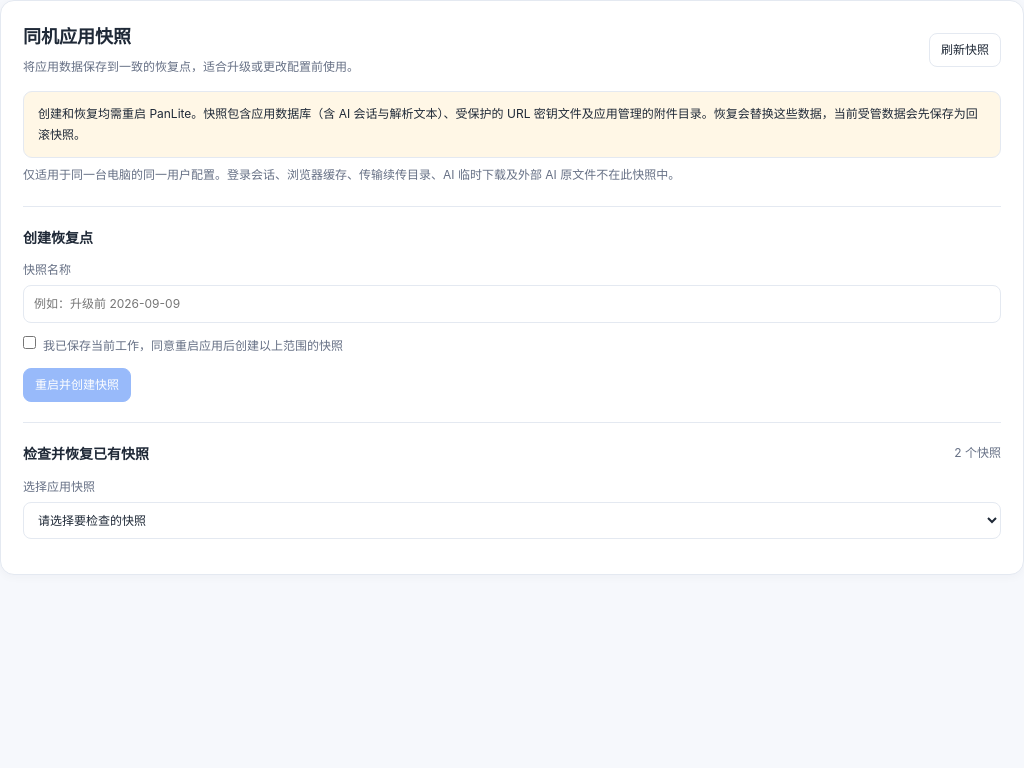
Test case: requires explicit restart confirmation before creating a snapshot
Type "本次升级前" into the field named "应用快照名称".
click(512, 304); type("本次升级前")  # box x1=23 y1=285 x2=1001 y2=323
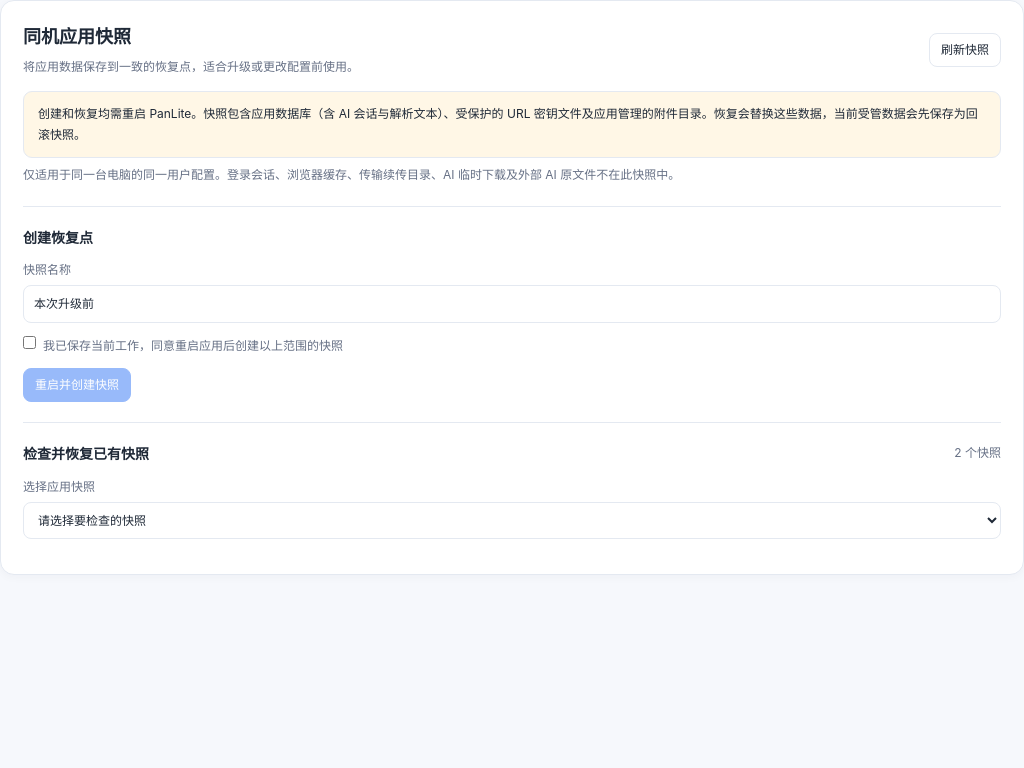
Submit the form, box x1=23 y1=206 x2=1001 y2=402
Expected: the text "创建和恢复均需重启 PanLite" is shown, x1=38 y1=106 x2=978 y2=142
Click the checkbox named "确认重启创建应用快照".
click(30, 342)  # box x1=23 y1=336 x2=36 y2=349
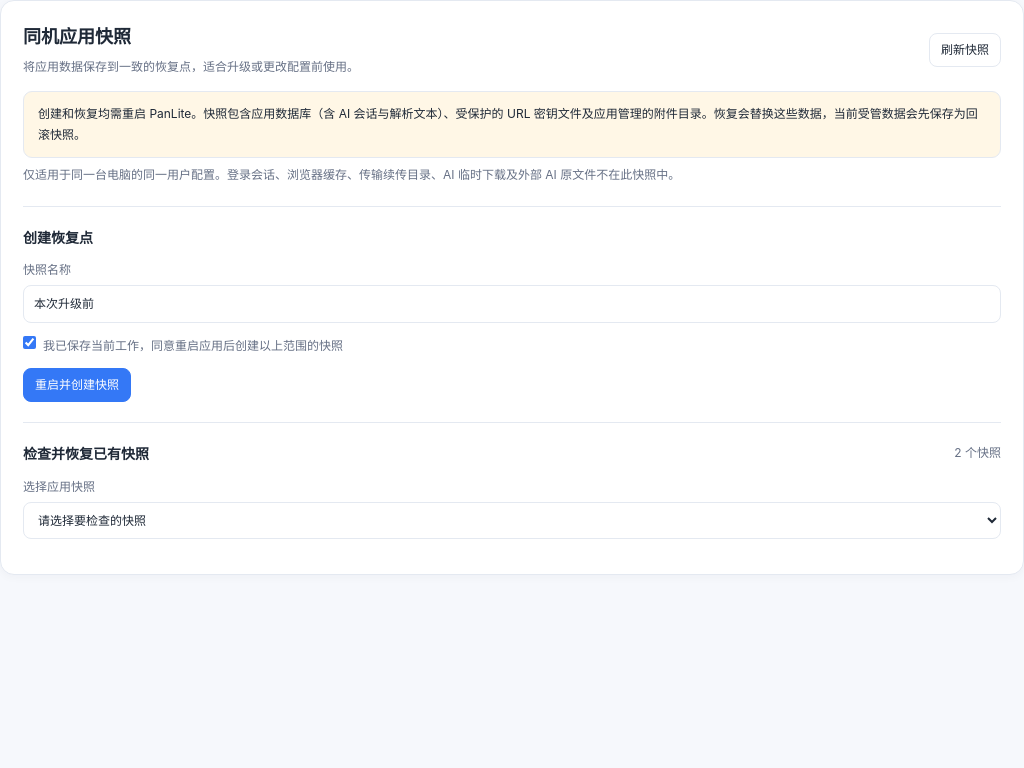
Submit the form, box x1=23 y1=206 x2=1001 y2=402
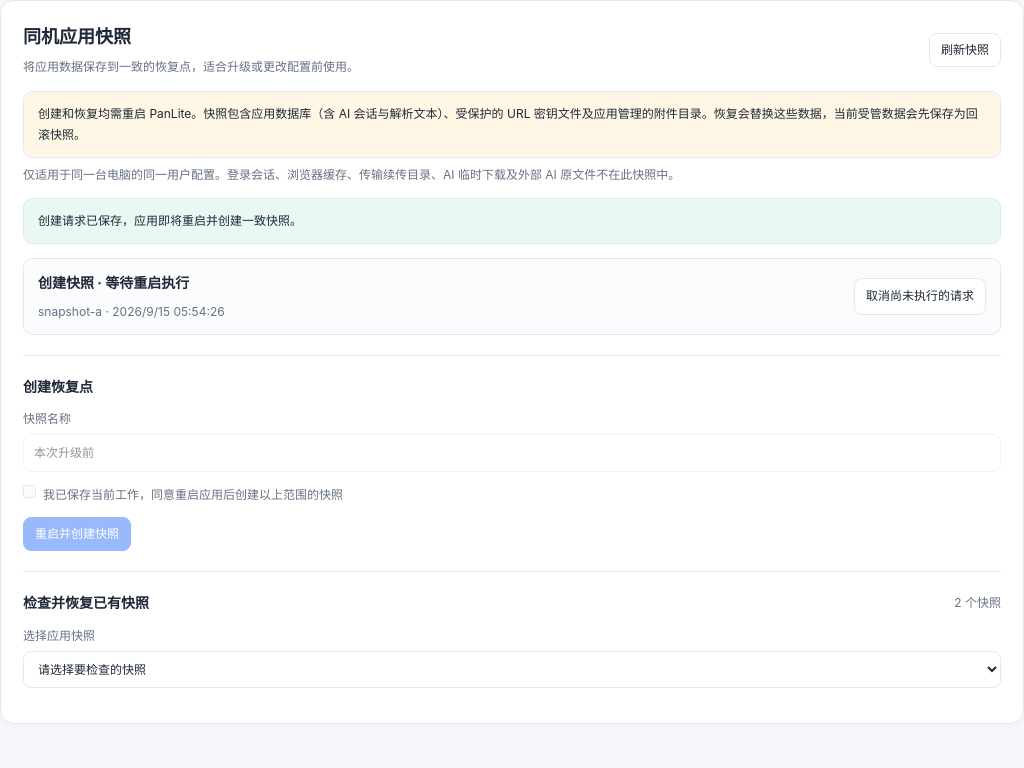
Expected: the text "应用即将重启" is shown, x1=38 y1=213 x2=302 y2=228
Expected: the field named "应用快照名称" is disabled, x1=23 y1=434 x2=1001 y2=472
